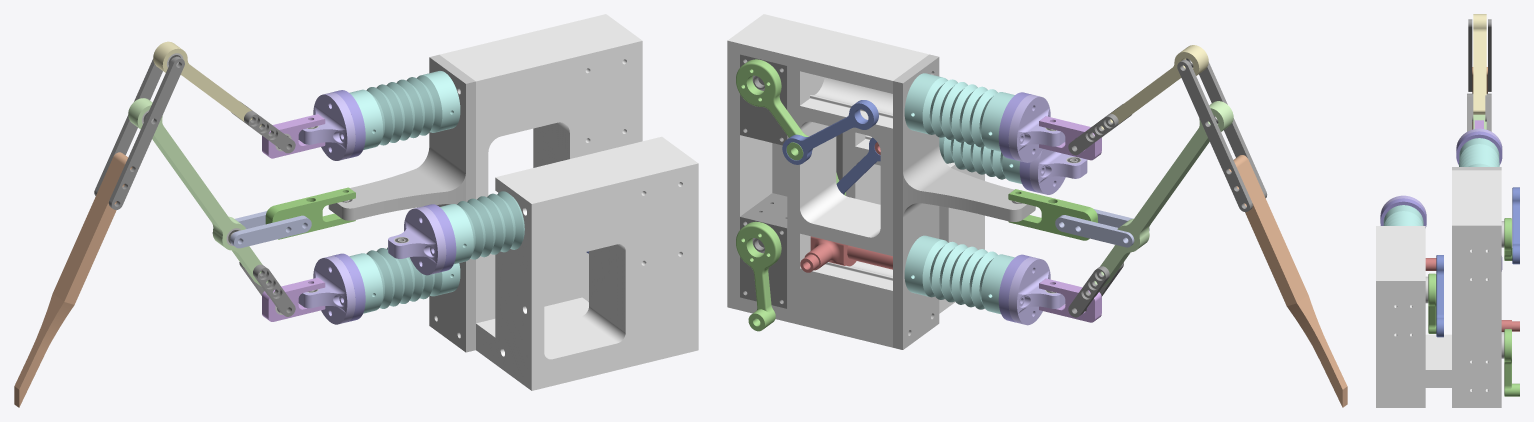
The picture shows the model from 3 angles, left to right: view 1: azimuth 30°, elevation 25°; view 2: azimuth 150°, elevation 25°; view 3: azimuth 270°, elevation 25°; orthographic projection. The views are drawn at different scales.
Parts seen in each view (by area): view 1: ServoBase_001-2, ServoBase_001-1, ReferencePlate_101-1, BellowTop_006-1, PRT - KneeTrue - 106-1, BellowTop_006-6, BellowTop_006-3, PRT - HipLink - 103-1, YawPitch_102-3, YawPitch_102-2, YawPitch_102-1, PRT - Knee - 105-1 (+11 smaller); view 2: ServoBase_001-1, ReferencePlate_101-1, BellowTop_006-3, BellowTop_006-1, PRT - KneeTrue - 106-1, ServoBase_001-2, PRT - HipLink - 103-1, XL430-1, RockerArmHorn_003-3, RockerArmHorn_003-2, YawPitch_102-2, YawPitch_102-1 (+17 smaller); view 3: ServoBase_001-1, ServoBase_001-2, PRT - KneeLink - 104-1, BellowTop_006-1, BellowTop_006-6, RockerArmPiston_004-4, RockerArmHorn_003-3, RockerArmPiston_004-2, RockerArmHorn_003-4, EndEffectorCover_007-1, EndEffectorCover_007-5, PRT - Knee - 105-1 (+9 smaller).
Part boxes in pixels (x1,y1,x2,y2): ServoBase_001-2: (476, 136, 698, 390); ServoBase_001-1: (440, 14, 642, 323); ReferencePlate_101-1: (328, 54, 475, 352); BellowTop_006-1: (349, 71, 460, 150); PRT - KneeTrue - 106-1: (14, 152, 132, 407); BellowTop_006-6: (440, 191, 524, 264); BellowTop_006-3: (349, 247, 460, 313); PRT - HipLink - 103-1: (128, 98, 268, 286); YawPitch_102-3: (388, 206, 446, 275); YawPitch_102-2: (298, 256, 355, 324); YawPitch_102-1: (298, 92, 355, 160); PRT - Knee - 105-1: (108, 56, 184, 209); ServoBase_001-1: (727, 14, 928, 347); ReferencePlate_101-1: (893, 54, 1035, 349); BellowTop_006-3: (904, 235, 1014, 314); BellowTop_006-1: (904, 73, 1014, 151); PRT - KneeTrue - 106-1: (1229, 155, 1347, 407); ServoBase_001-2: (843, 130, 984, 313); PRT - HipLink - 103-1: (1094, 101, 1233, 287); XL430-1: (740, 193, 787, 308); RockerArmHorn_003-3: (736, 221, 781, 331); RockerArmHorn_003-2: (736, 59, 812, 160); YawPitch_102-2: (1008, 257, 1065, 325); YawPitch_102-1: (1008, 94, 1065, 162); ServoBase_001-1: (1452, 170, 1501, 407); ServoBase_001-2: (1376, 226, 1451, 407); PRT - KneeLink - 104-1: (1473, 14, 1486, 114); BellowTop_006-1: (1459, 138, 1499, 166); BellowTop_006-6: (1383, 205, 1423, 225); RockerArmPiston_004-4: (1436, 255, 1443, 337); RockerArmHorn_003-3: (1504, 329, 1519, 396); RockerArmPiston_004-2: (1512, 187, 1519, 264); RockerArmHorn_003-4: (1428, 273, 1436, 333); EndEffectorCover_007-1: (1456, 131, 1502, 164); EndEffectorCover_007-5: (1380, 198, 1426, 227); PRT - Knee - 105-1: (1468, 19, 1472, 91).
Bounding box in the file's own units: 0.3631 × 0.2077 × 0.11.
